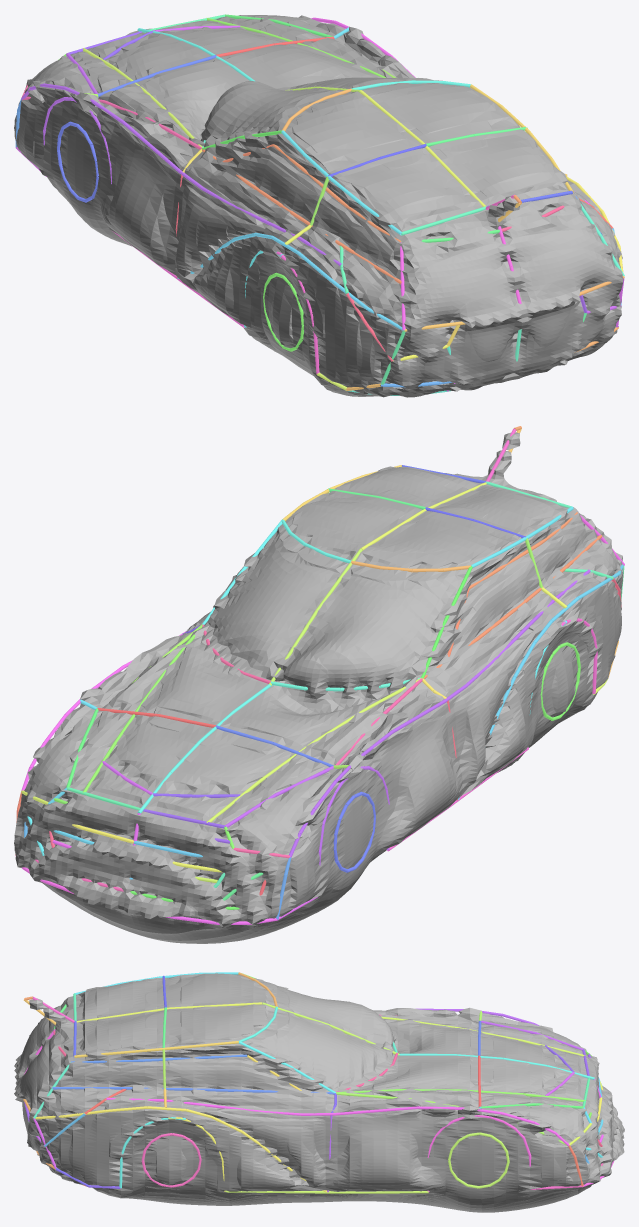
Rendered from ils_car4.gltf.
3 renders of one model, top to bottom at view 1: azimuth 30°, elevation 25°; view 2: azimuth 150°, elevation 25°; view 3: azimuth 270°, elevation 25°, orthographic. The views are drawn at different scales.
Bounding box in the file's own units: 0.4076 × 0.3261 × 0.9214.
